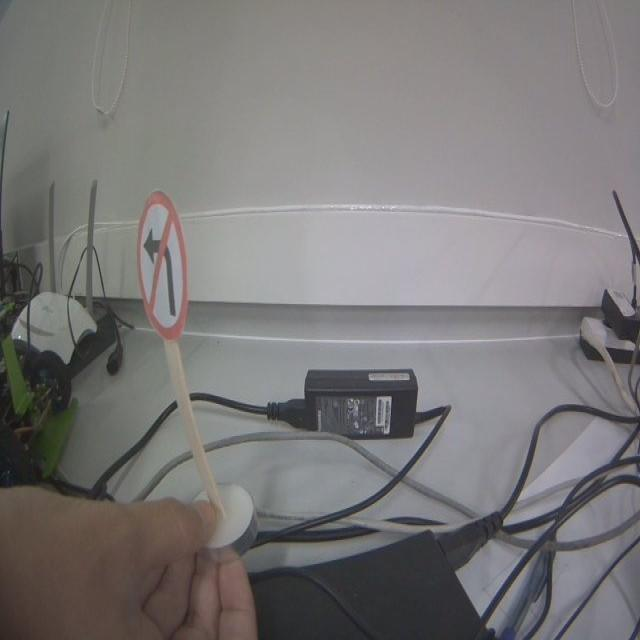Dilarang Belok Kiri: (137, 189, 188, 339)
